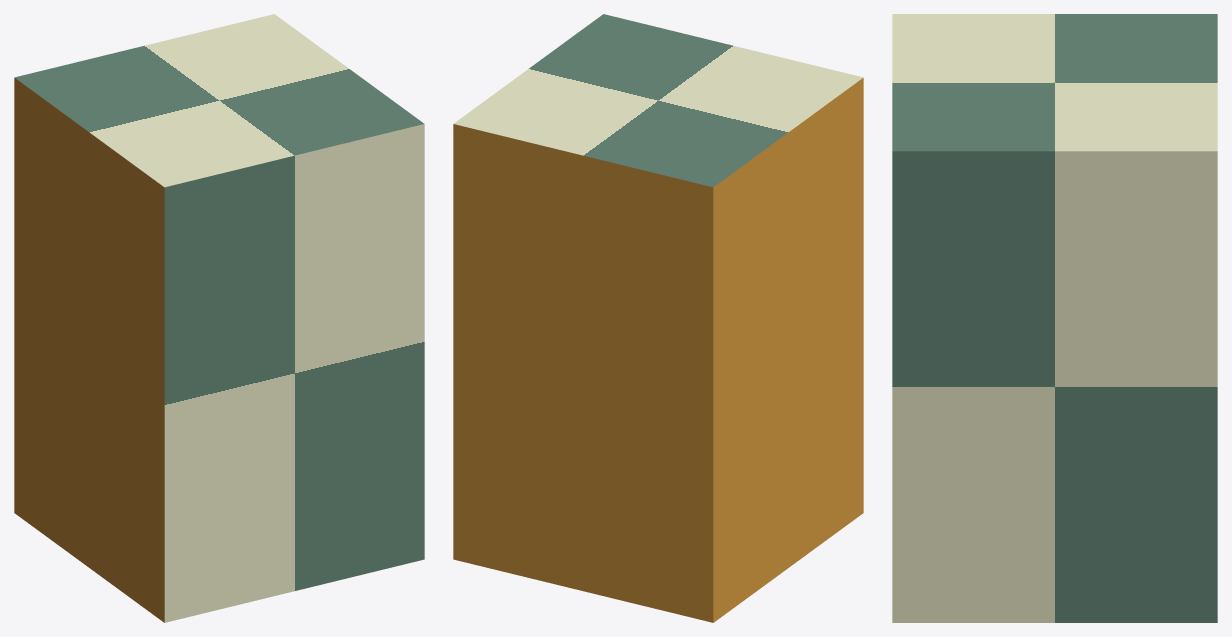
The model's file is two-finishes.glb.
3 views of the same model, side by side, from view 1: azimuth 30°, elevation 25°; view 2: azimuth 150°, elevation 25°; view 3: azimuth 270°, elevation 25° (orthographic). The views are drawn at different scales.
Parts seen in each view (by area): view 1: Imported two-finish sample; view 2: Imported two-finish sample; view 3: Imported two-finish sample.
Boxes of the visible parts, left/top/right/bottom form: Imported two-finish sample: left=14, top=14, right=424, bottom=622; Imported two-finish sample: left=453, top=14, right=863, bottom=622; Imported two-finish sample: left=892, top=14, right=1217, bottom=622.
Bounding box in the file's own units: 1 × 1.6 × 1.
Materials: 2 (1 with a texture image).
